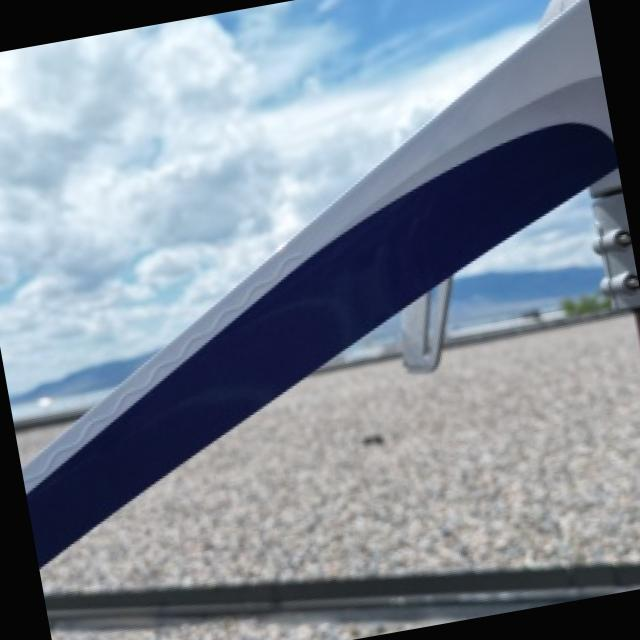healthy: (39, 373, 640, 586)
